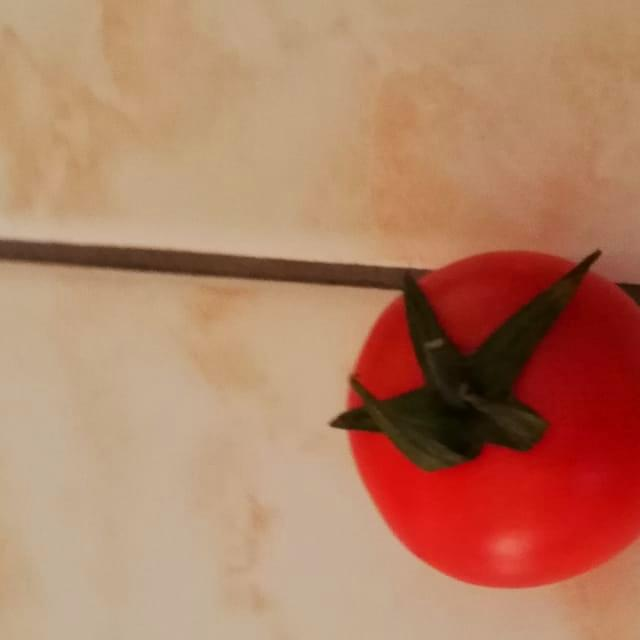tomato: (313, 222, 640, 604)
